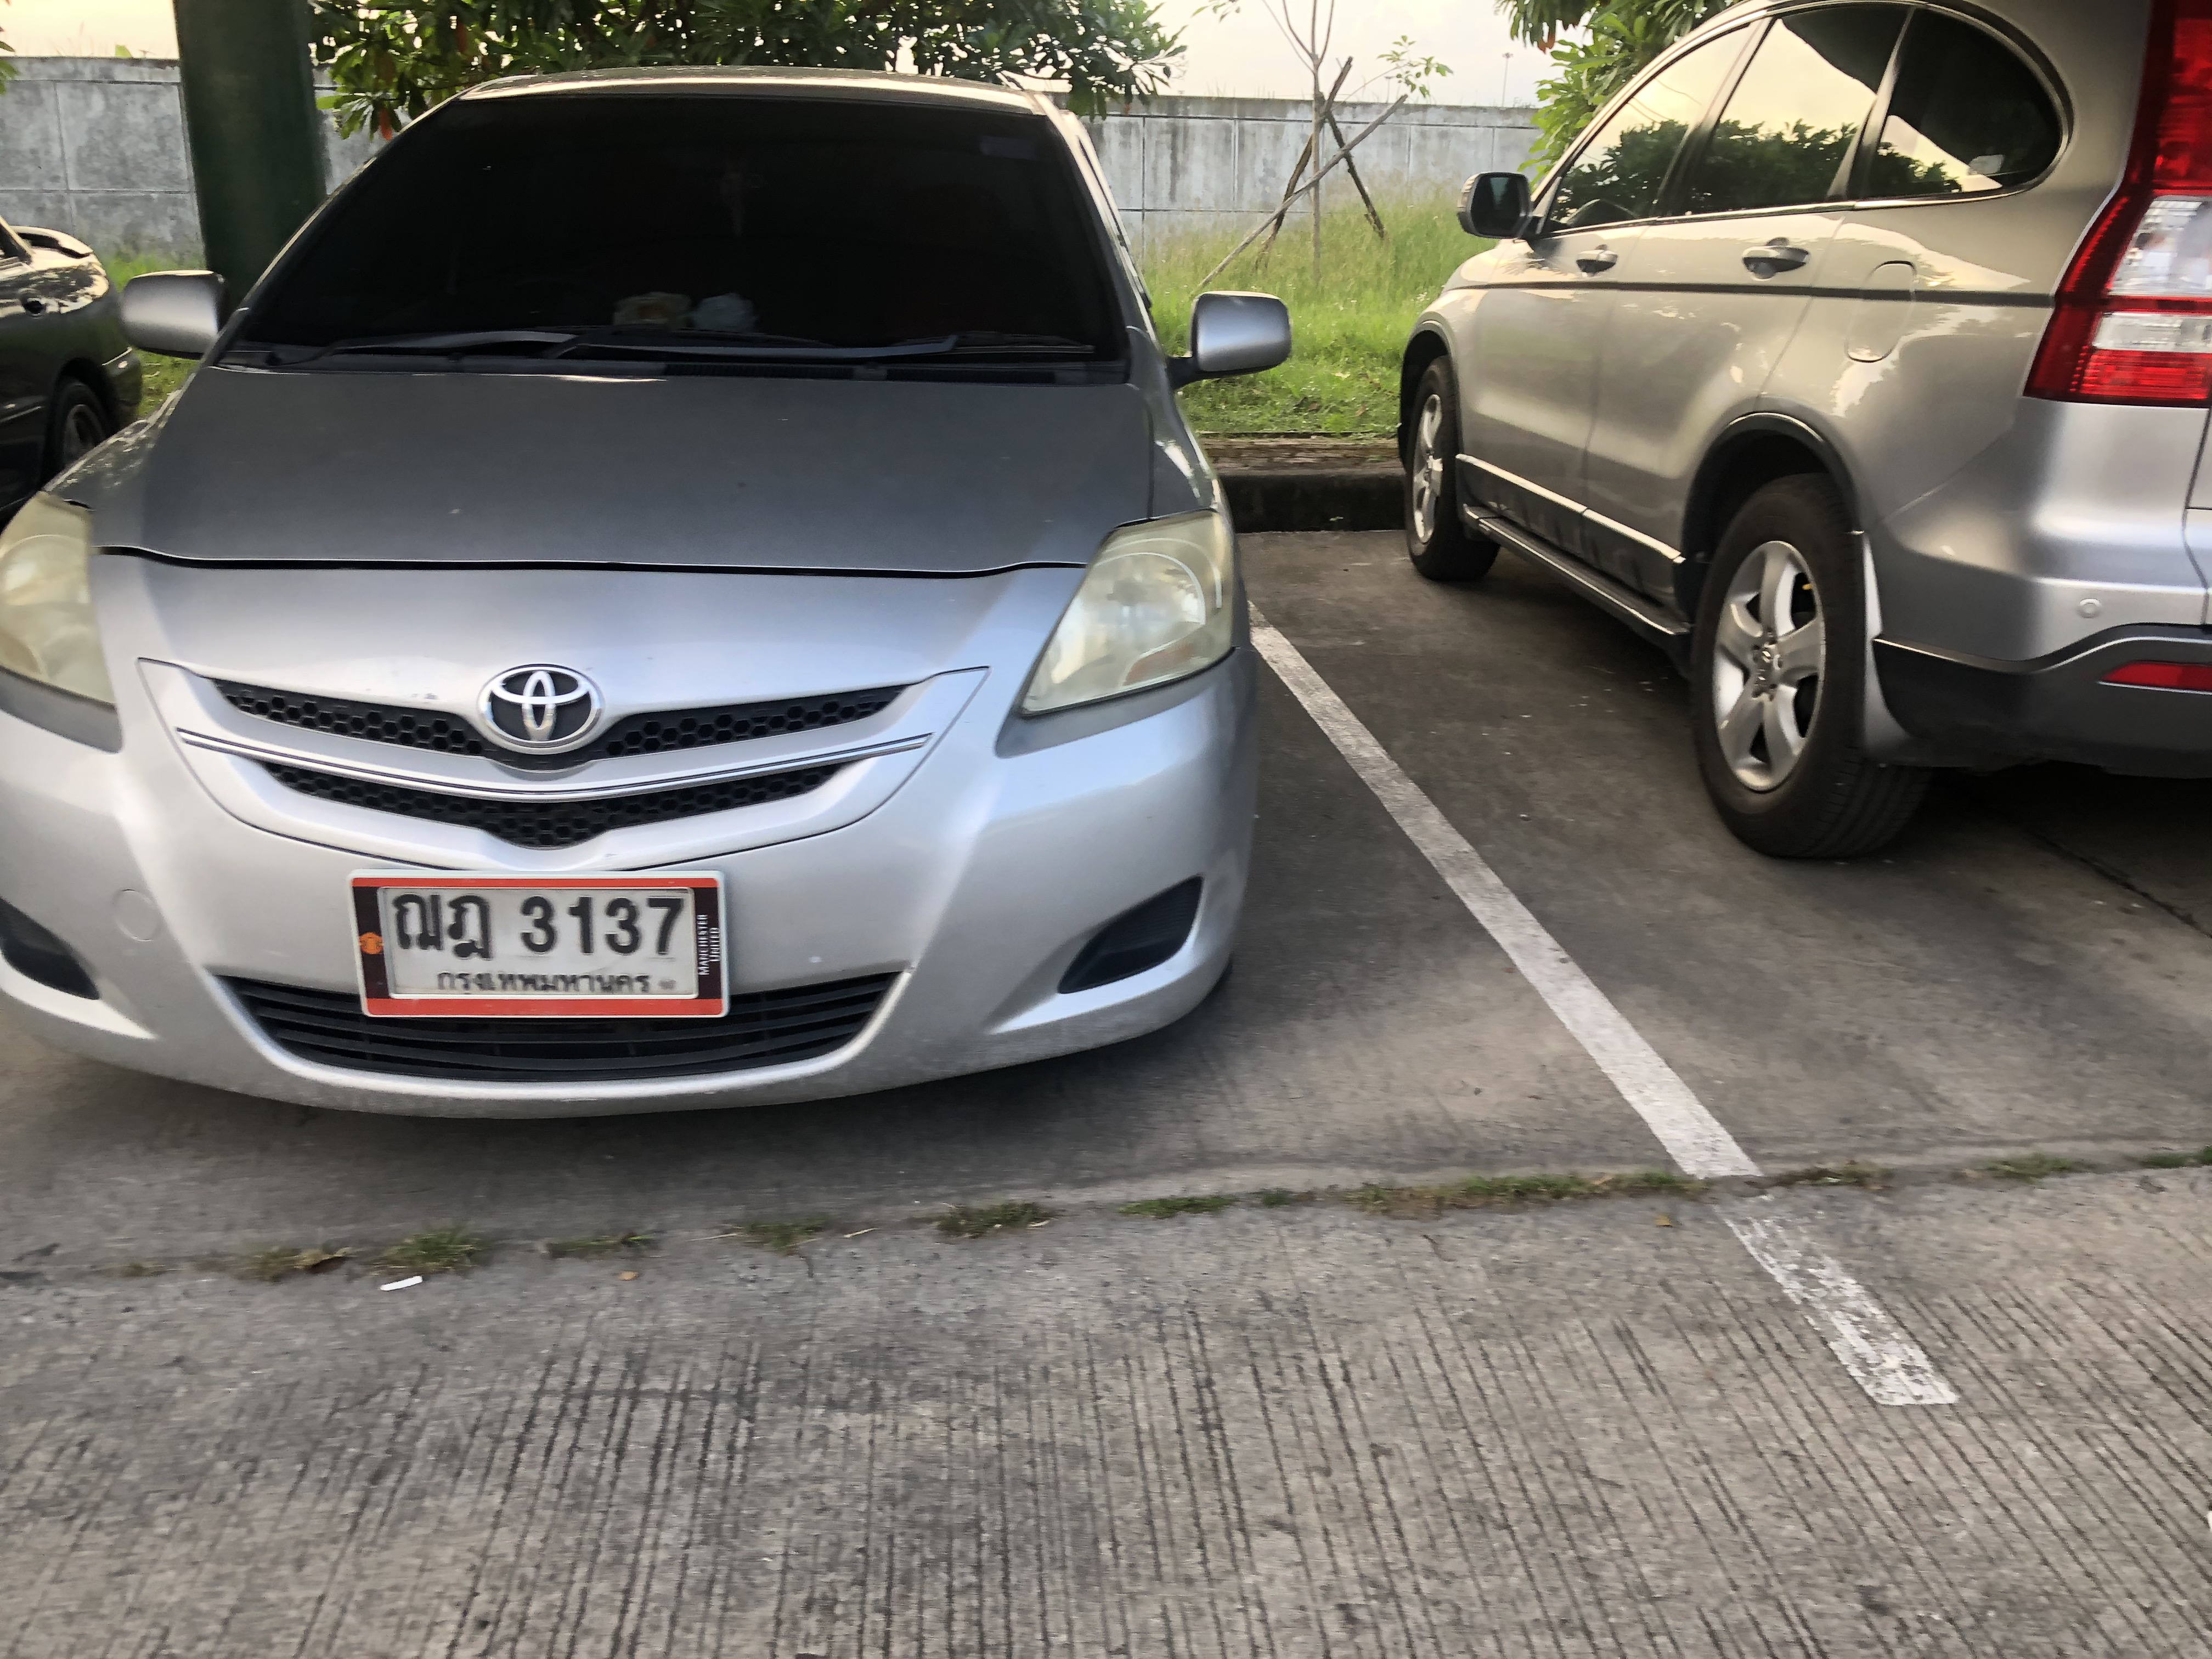in: (388, 882, 695, 1002)
out: (347, 861, 733, 1028)
